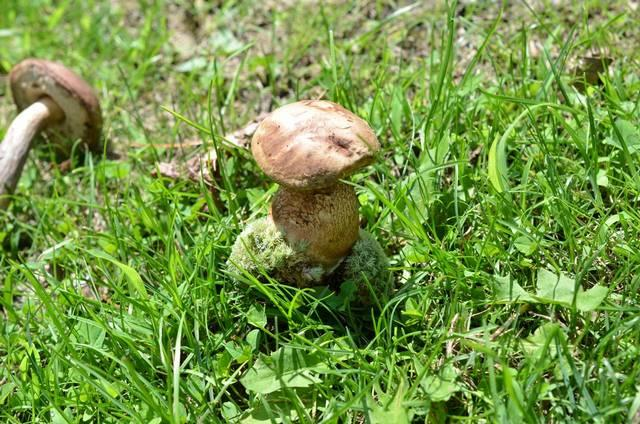poisonous_mushroom: (226, 97, 382, 288), (0, 56, 103, 210)
